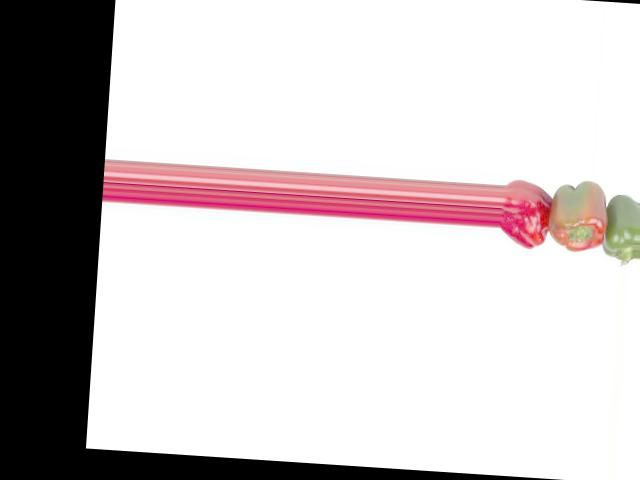bell_pepper: (499, 175, 554, 256)
